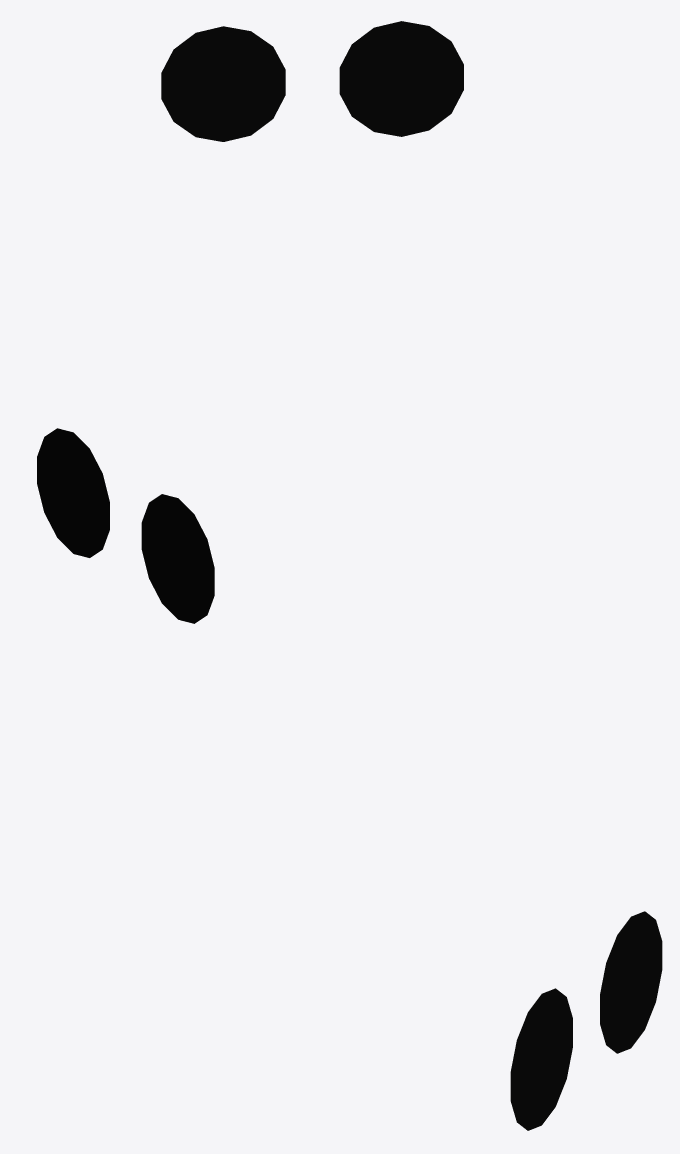
Rendered from ROUND SUNGLASSES.fbx.
The picture shows the model from 3 angles, top to bottom: view 1: azimuth 30°, elevation 25°; view 2: azimuth 150°, elevation 25°; view 3: azimuth 270°, elevation 25°; orthographic projection. The views are drawn at different scales.
Visible parts, largest first — view 1: ROUND_SUNGLASSES; view 2: ROUND_SUNGLASSES; view 3: ROUND_SUNGLASSES.
Boxes of the visible parts, x1=… form: ROUND_SUNGLASSES: x1=161, y1=21, x2=463, y2=141; ROUND_SUNGLASSES: x1=37, y1=428, x2=214, y2=623; ROUND_SUNGLASSES: x1=510, y1=911, x2=662, y2=1130.
Size of the model in its own units: 27.55 by 8.01 by 22.56.
